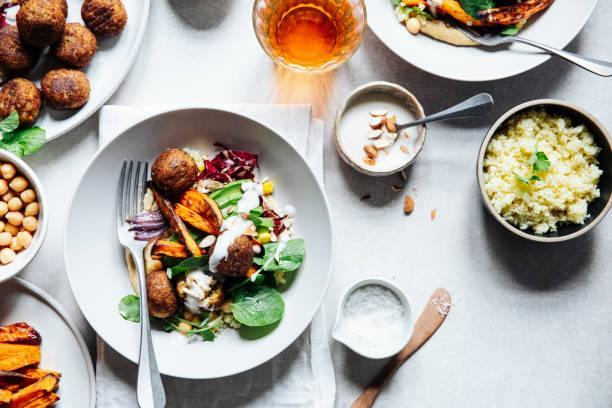Braised Crucian Carp: (65, 107, 332, 379), (0, 0, 149, 134), (476, 99, 608, 242)
